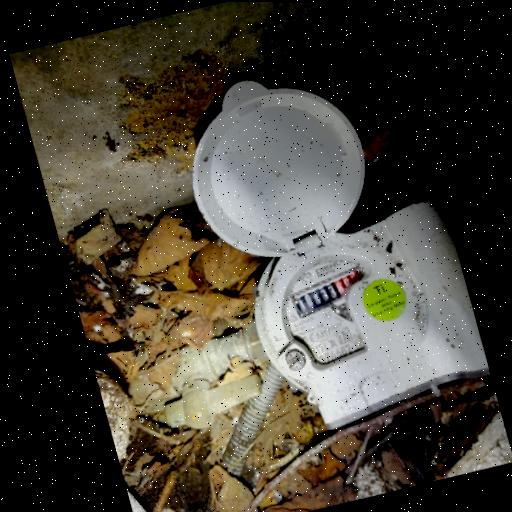0: (301, 292, 318, 313), (294, 295, 310, 316)
1: (310, 288, 326, 309)
3: (317, 285, 334, 306), (324, 281, 341, 302)
8: (332, 276, 350, 299)
9: (341, 273, 357, 292)
border_water_meter_number: (286, 263, 375, 321)
